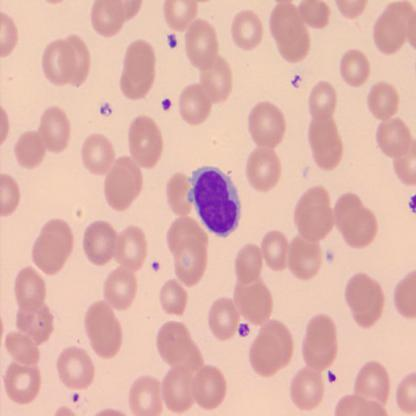Lymphocyte: (186, 164, 241, 238)
